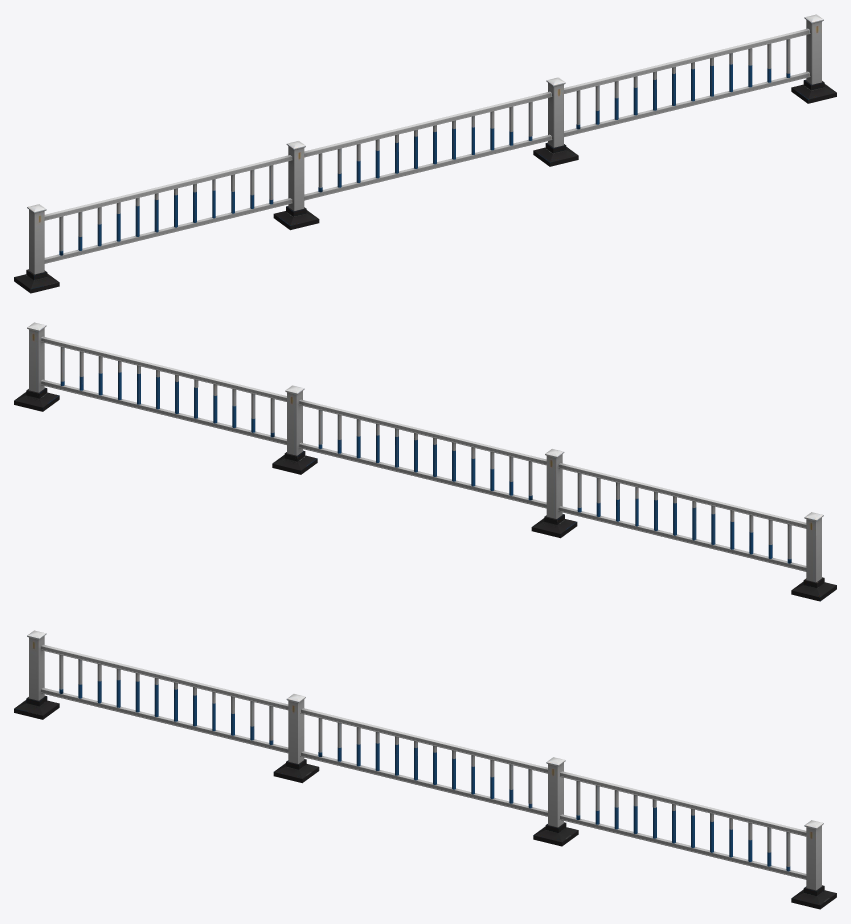
Rendered from hulan_02.glb.
3 views of the same model, one above another, from view 1: azimuth 30°, elevation 25°; view 2: azimuth 150°, elevation 25°; view 3: azimuth 330°, elevation 25° (orthographic).
Visible parts, largest first — view 1: SM_hulan_02; view 2: SM_hulan_02; view 3: SM_hulan_02.
Boxes of the visible parts, <box> form: SM_hulan_02: <box>14,14,836,293</box>; SM_hulan_02: <box>14,322,836,601</box>; SM_hulan_02: <box>14,630,836,909</box>.
Size of the model in its own units: 11.73 by 1.08 by 0.4209.
Materials: 1 (1 with a texture image).
